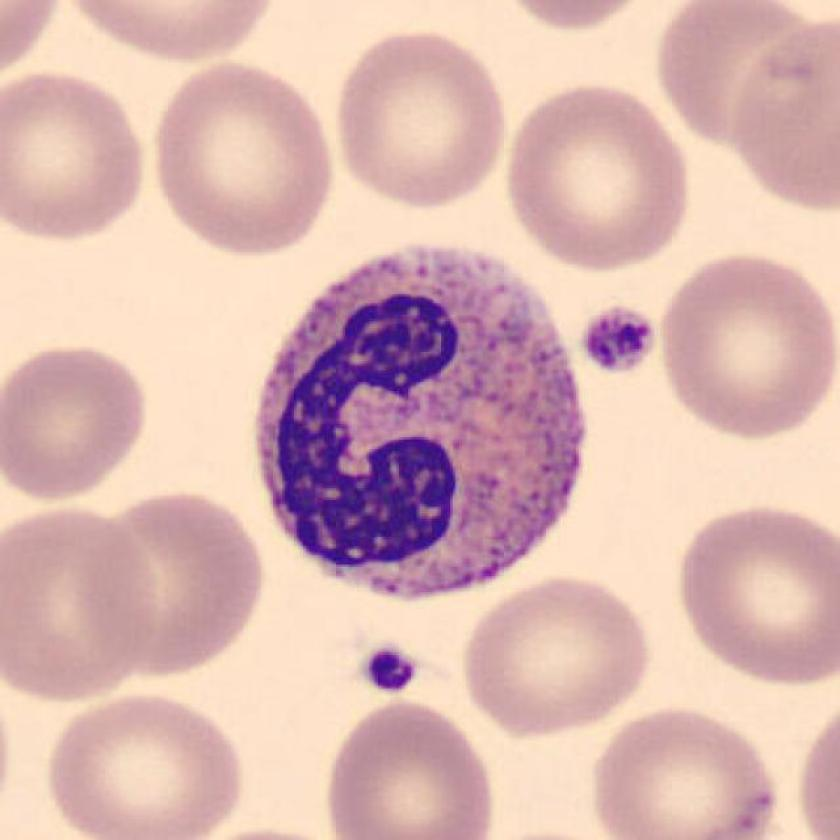neutrophil: (252, 249, 581, 602)
